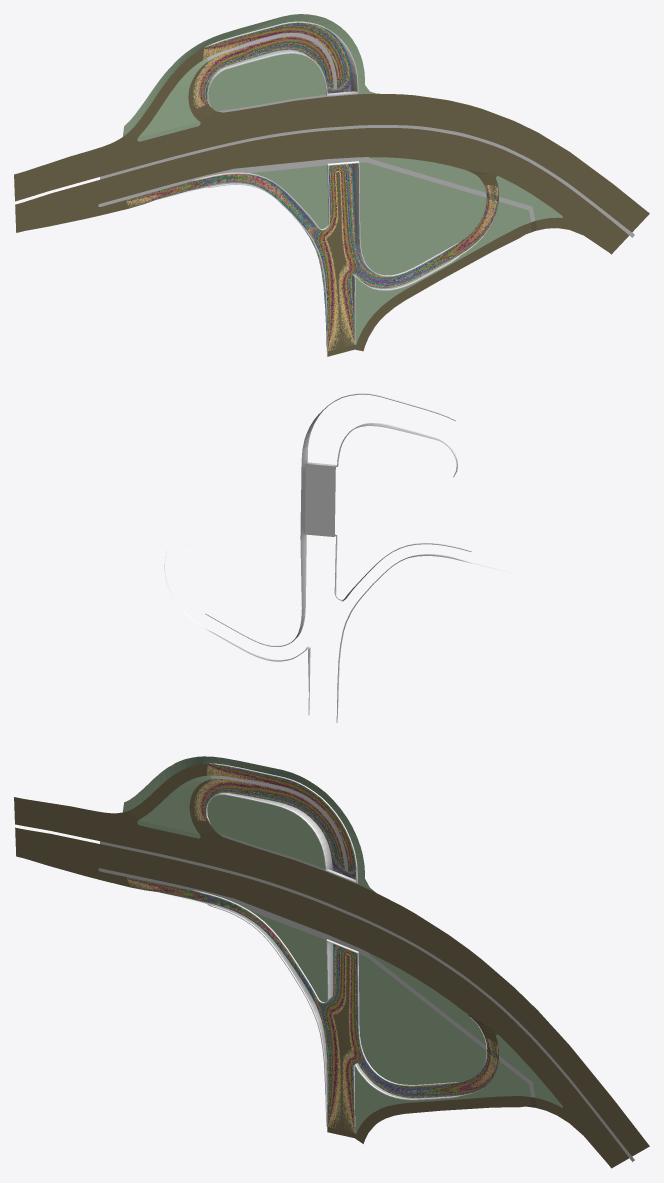
The picture shows the model from 3 angles, top to bottom: view 1: azimuth 30°, elevation 25°; view 2: azimuth 150°, elevation 25°; view 3: azimuth 330°, elevation 25°; orthographic projection.
Parts seen in each view (by area): view 1: world; view 2: world; view 3: world.
Part boxes in pixels (bbox=[...]): world: bbox=[14, 14, 649, 356]; world: bbox=[164, 393, 514, 722]; world: bbox=[14, 756, 649, 1168].
Bounding box in the file's own units: 463 × 247 × 8.
1 material, 1 textured.
